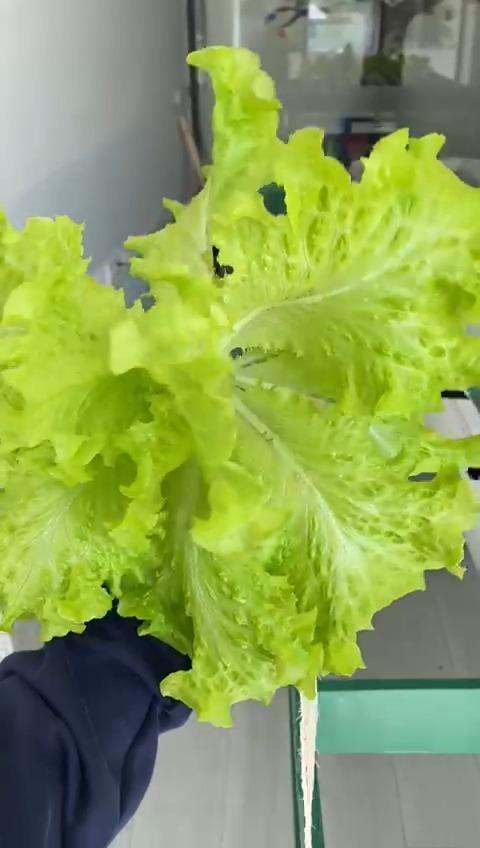Healthy Lettuce: (0, 49, 480, 725)
